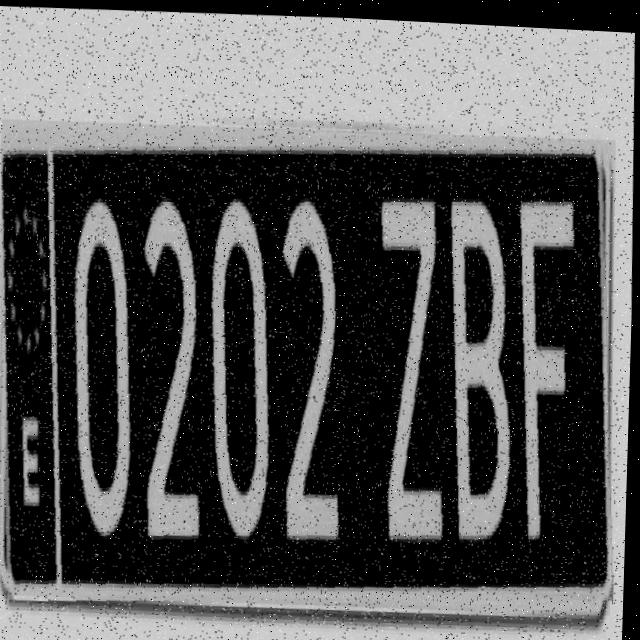LicensePlate: (0, 108, 624, 619)
